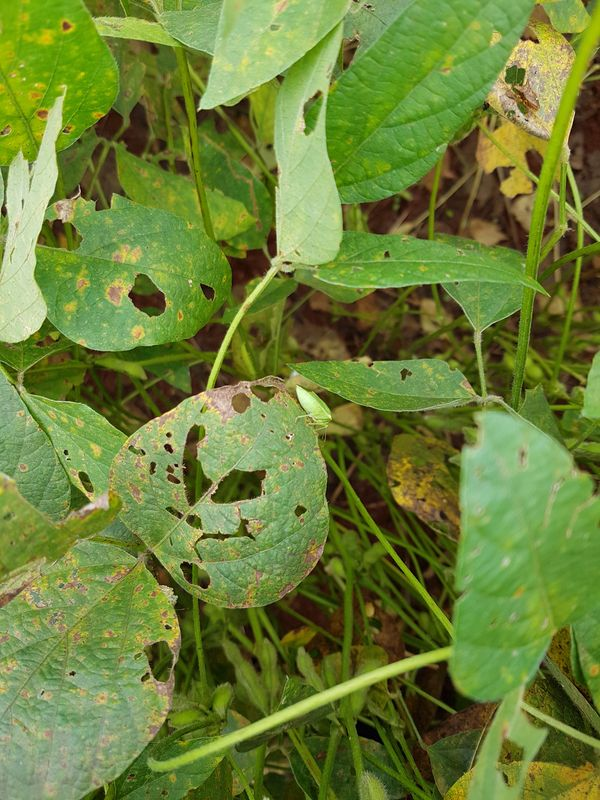Euschistus_heros_adulto: (509, 75, 545, 116)
Nezara_viridula_adulto: (283, 379, 340, 447)
